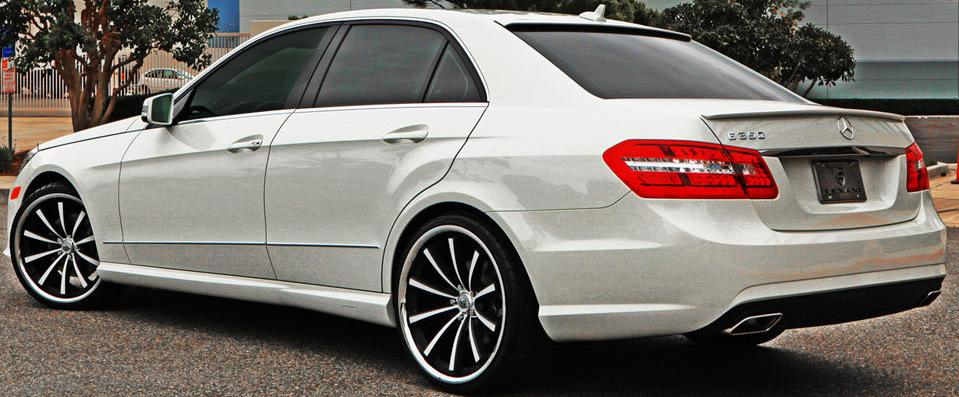back_view: (569, 85, 957, 327)
backlight: (579, 118, 798, 222)
side_glass: (181, 24, 477, 125)
